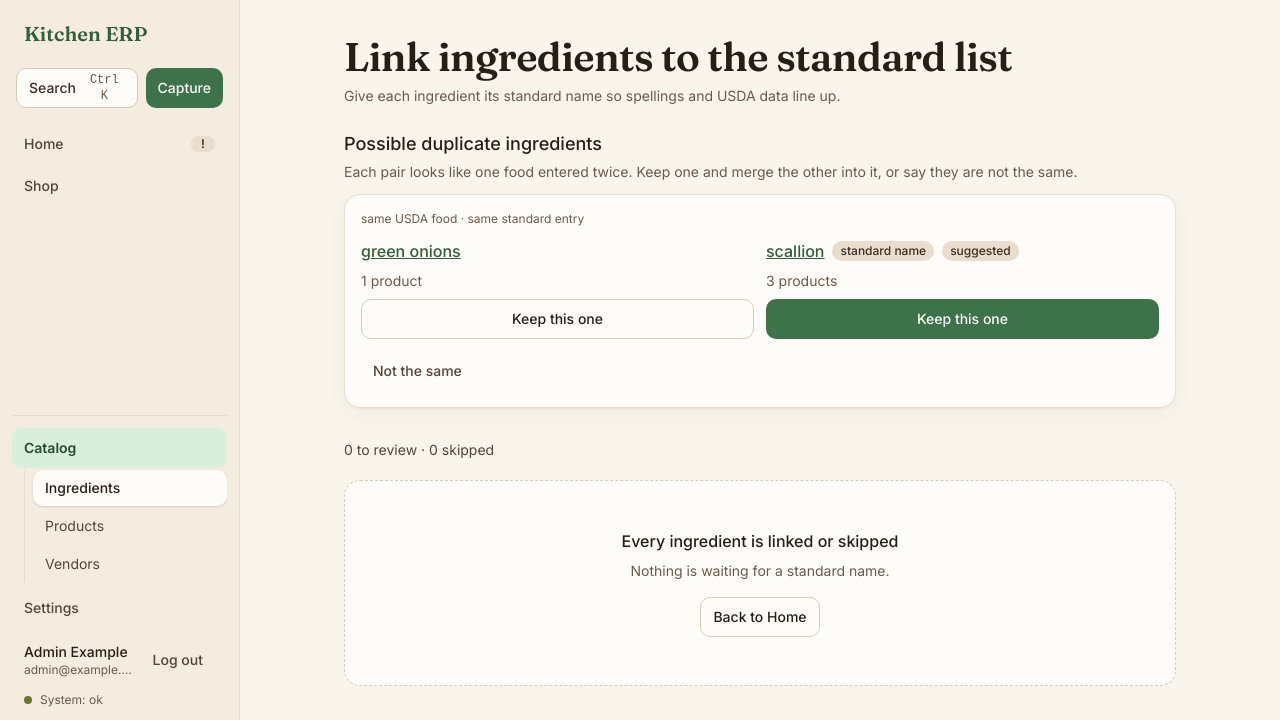
Test case: possible duplicate ingredients (issue 346) › remembers Not the same and the pair leaves
Click the button with aria-label "green onions and scallion are not the same". click: (417, 371)
box: [361,351,474,391]
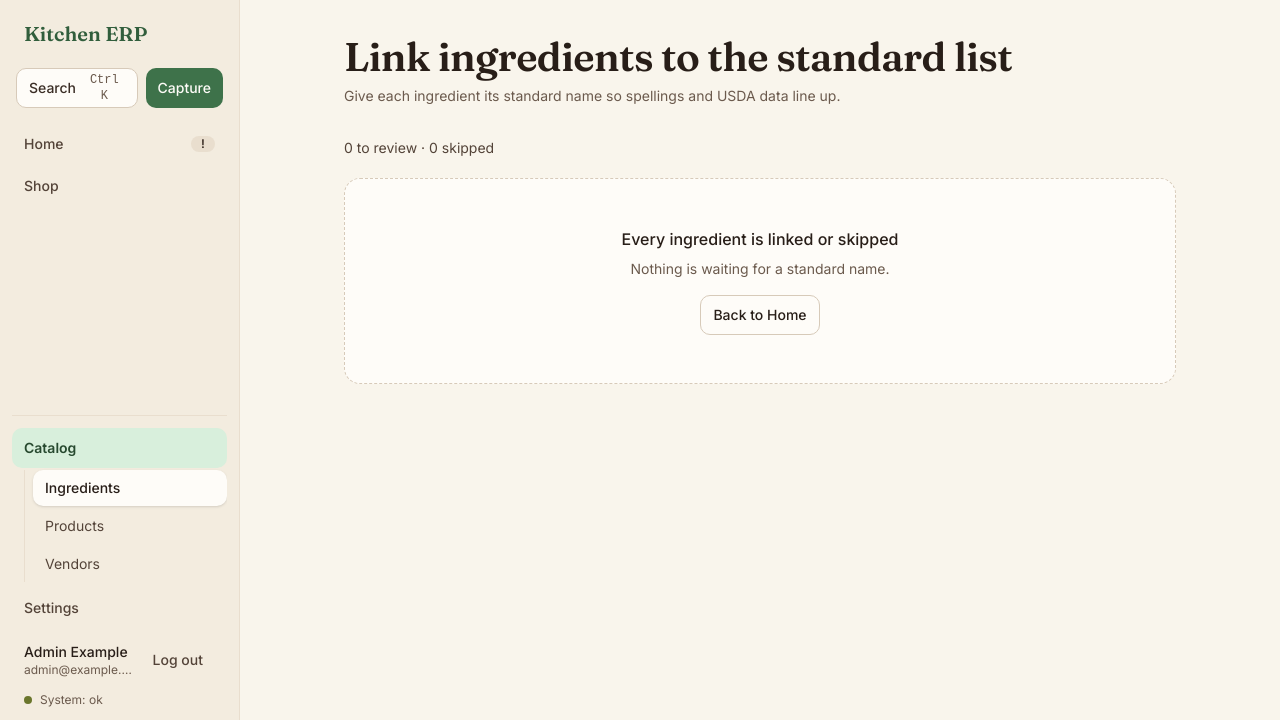
Expected: the heading "Possible duplicate ingredients" is gone
